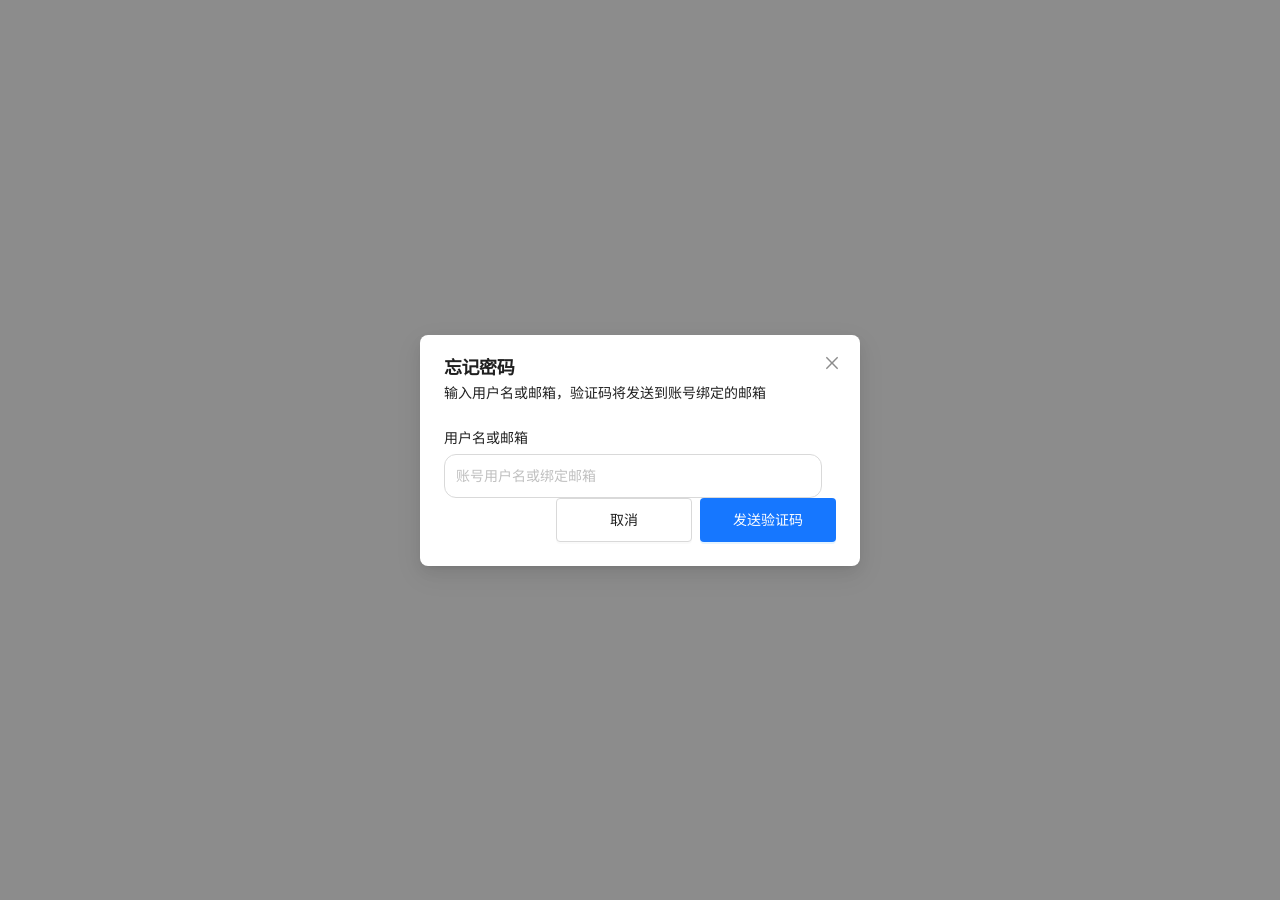
ForgotPasswordDialog › 第二步：验证码非 6 位数字时提示错误
Type "alice" into the field labelled "用户名或邮箱".
click(633, 476); type("alice")  # box top-left (444, 454), bottom-right (822, 498)
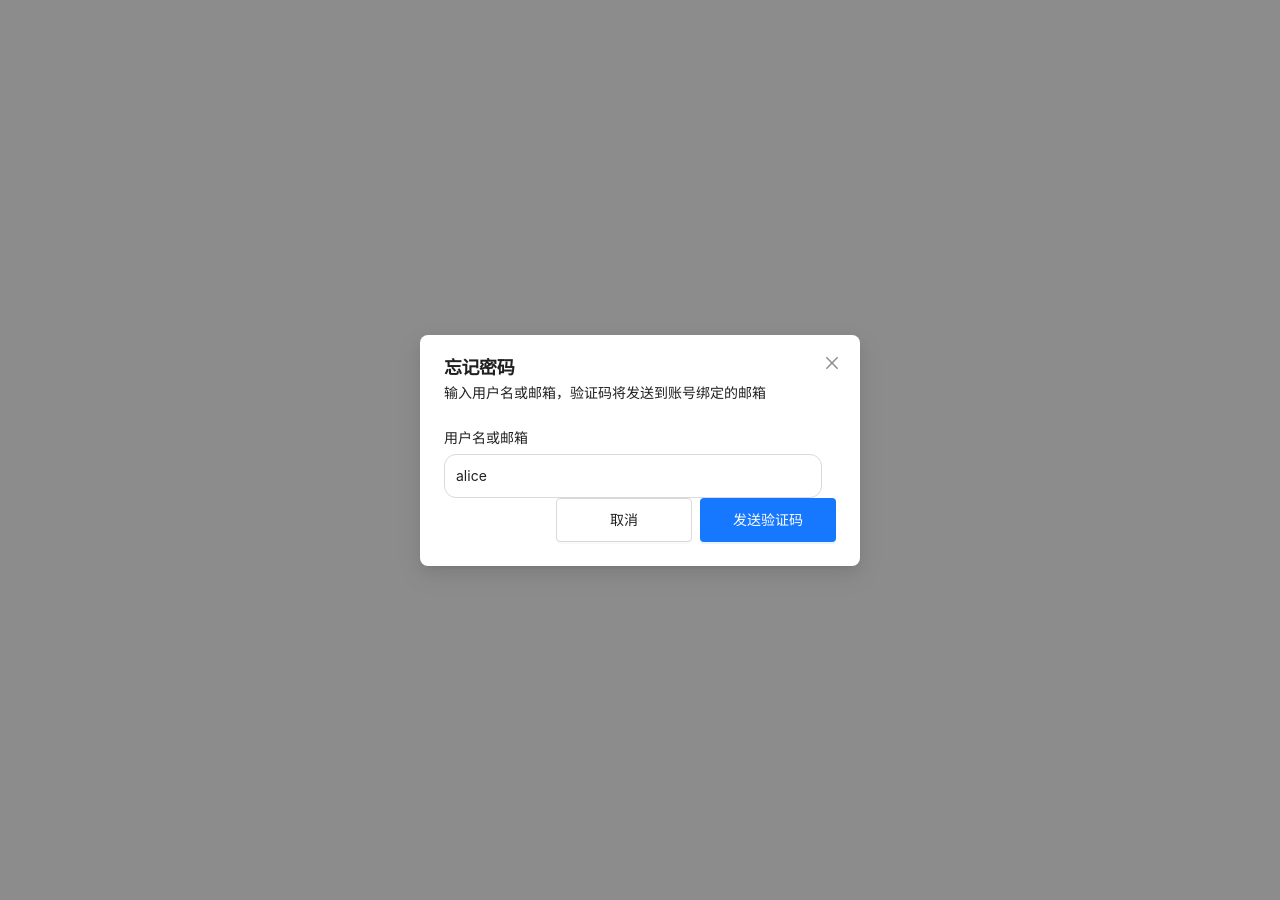
Click the button "发送验证码".
click(768, 520)  # box top-left (700, 498), bottom-right (836, 542)
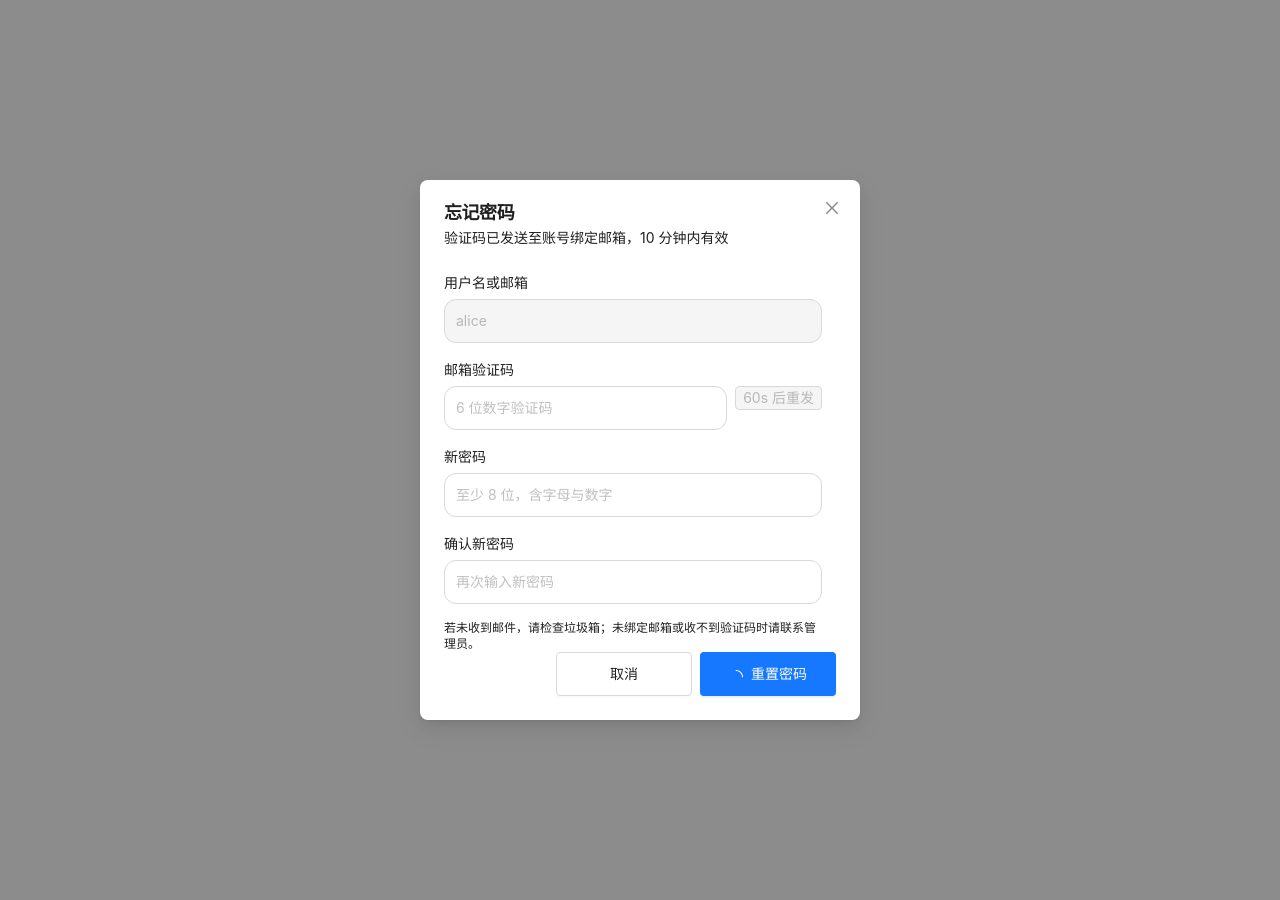
Result: the field labelled "邮箱验证码" is shown
Type "12ab" into the field labelled "邮箱验证码".
click(586, 408); type("12ab")  # box top-left (444, 386), bottom-right (727, 430)
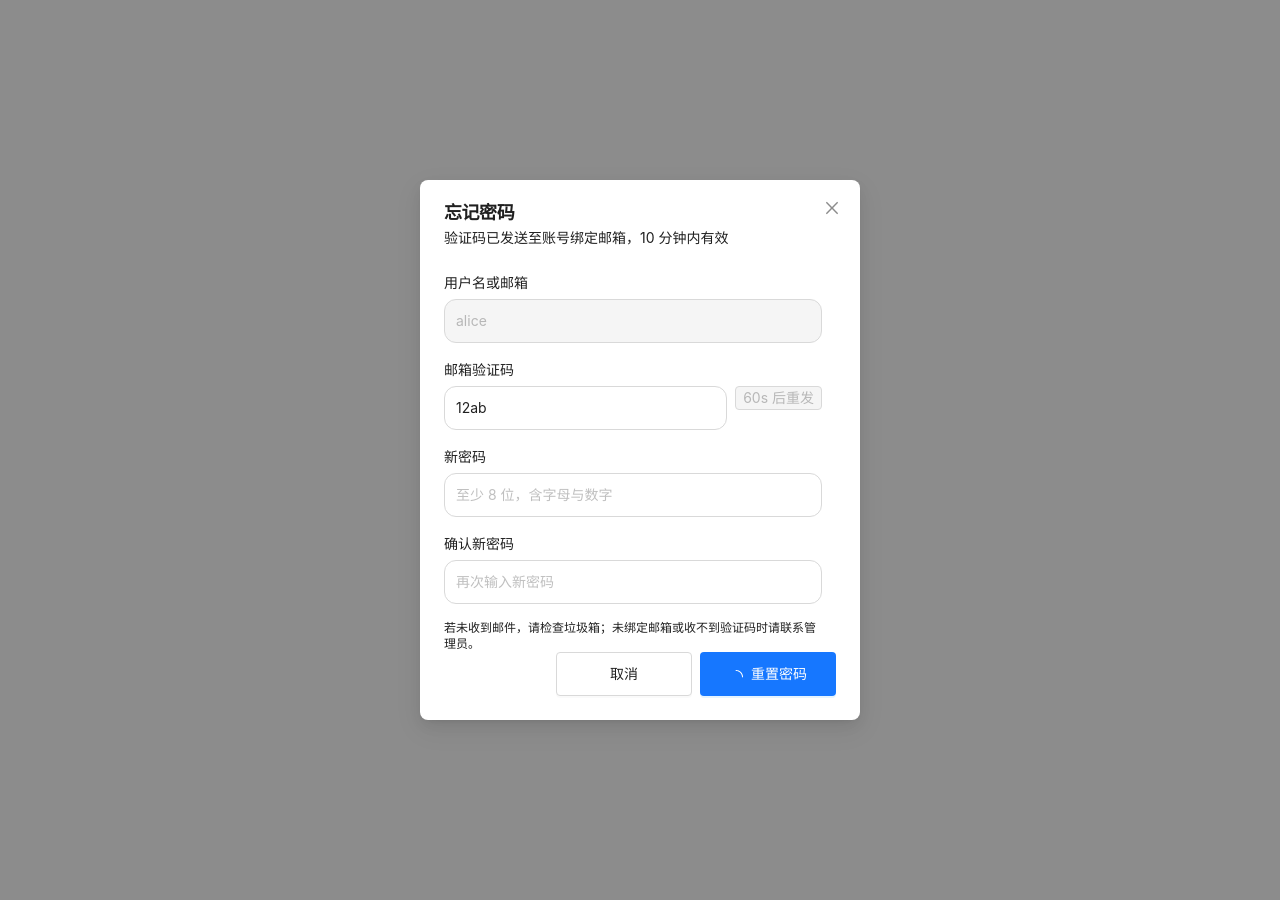
Type "NewPass123" into the password field labelled "新密码".
click(633, 495); type("NewPass123")  # box top-left (444, 473), bottom-right (822, 517)
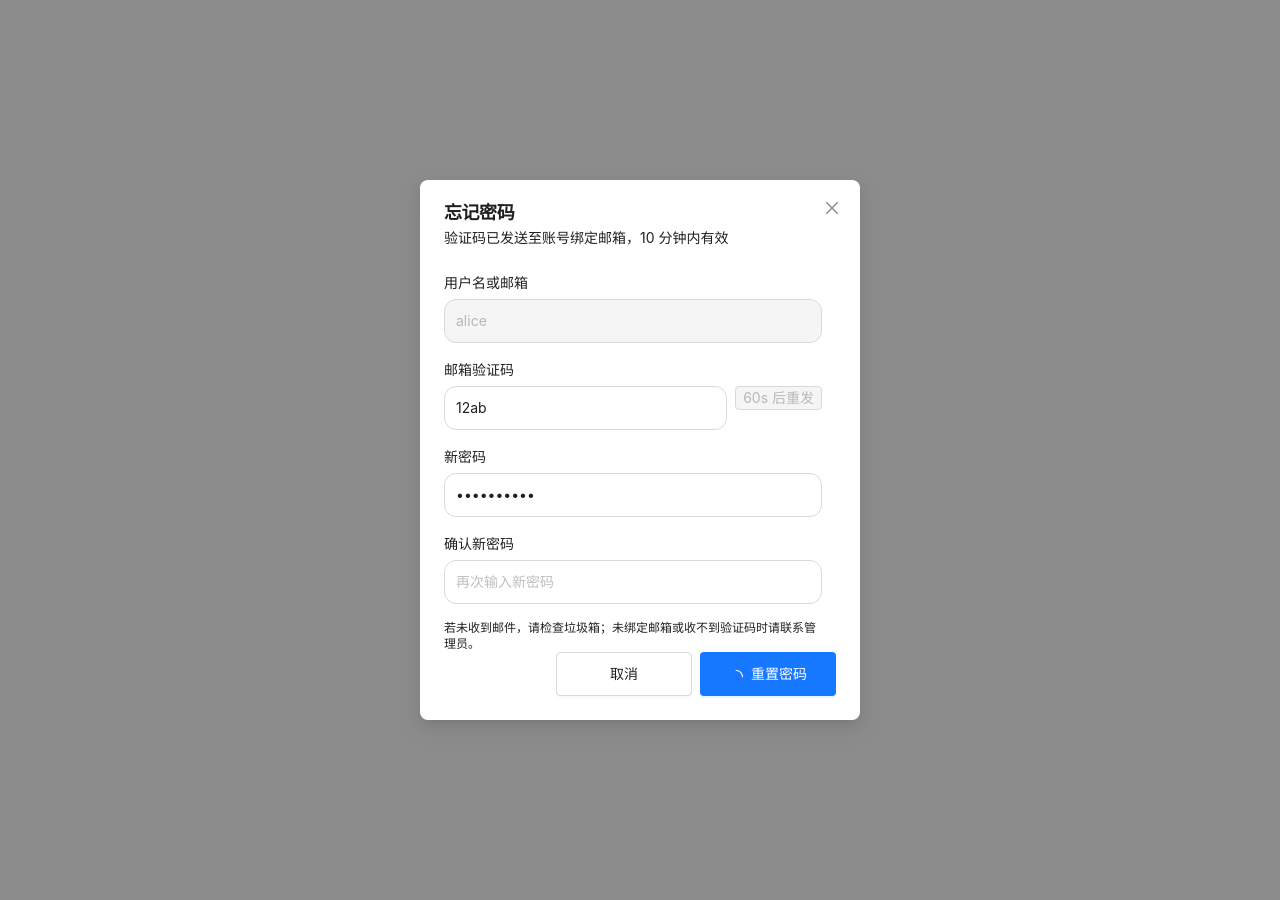
Type "NewPass123" into the password field labelled "确认新密码".
click(633, 582); type("NewPass123")  # box top-left (444, 560), bottom-right (822, 604)
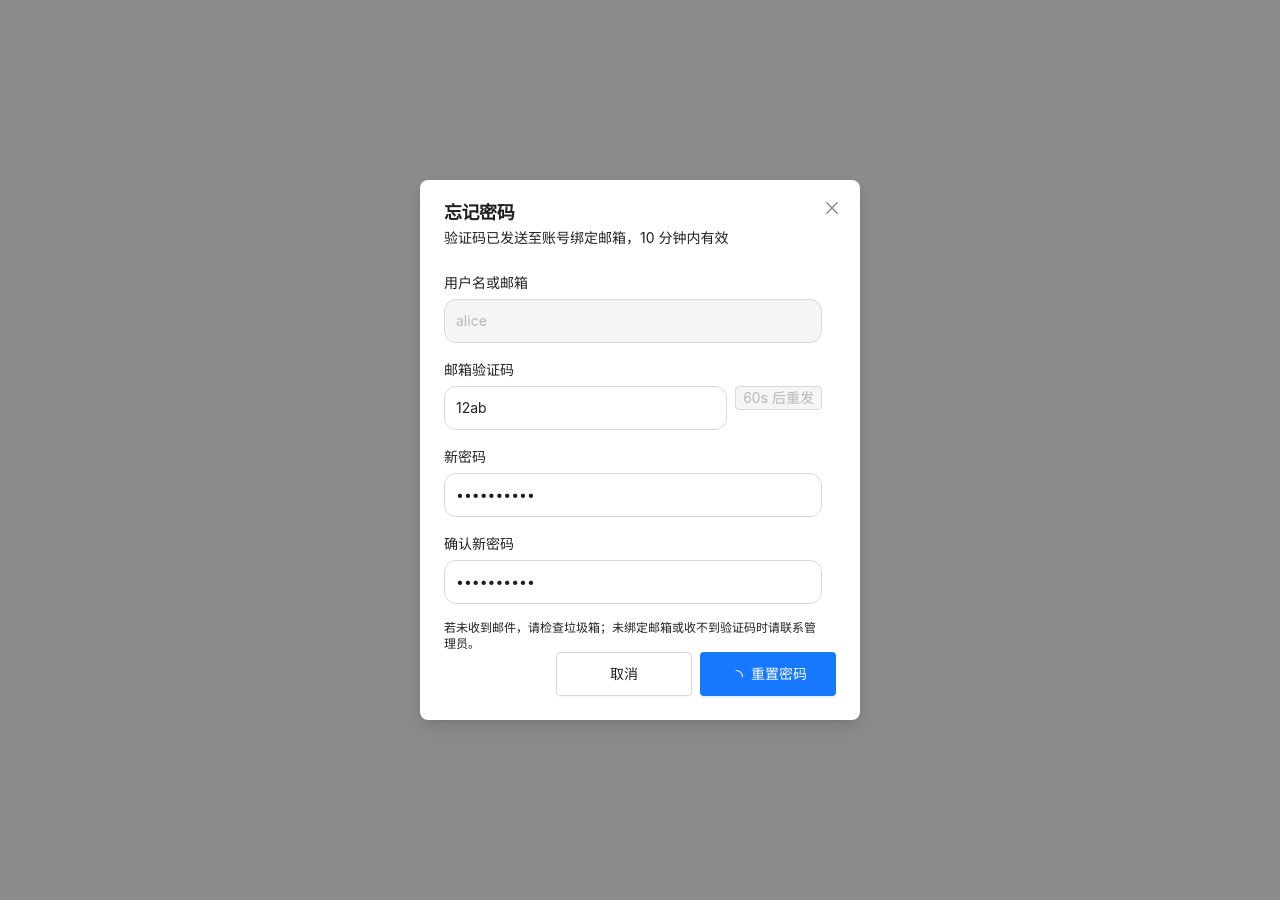
Click the button "重置密码".
click(768, 674)  # box top-left (700, 652), bottom-right (836, 696)
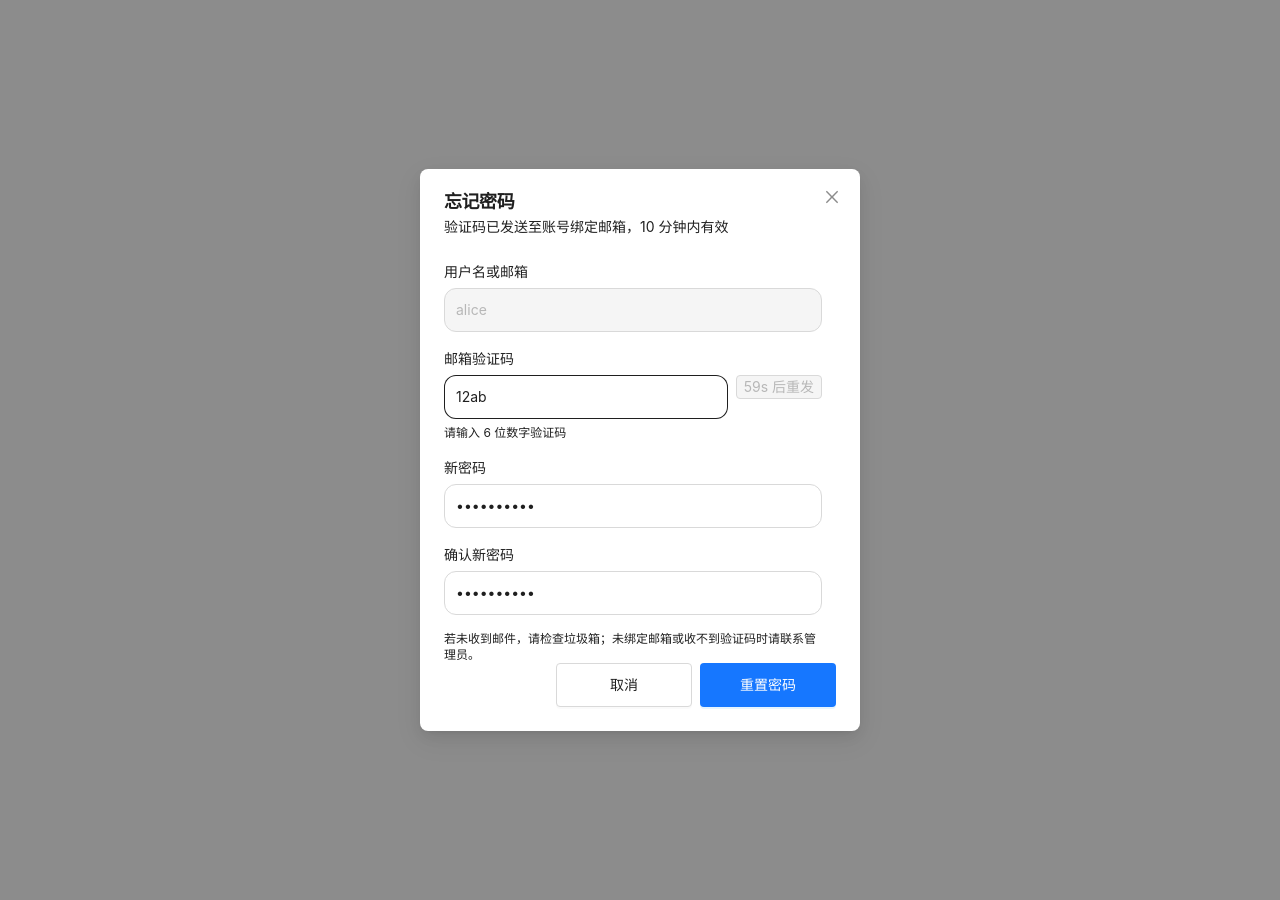
Result: the text "请输入 6 位数字验证码" is shown at top-left (444, 425), bottom-right (566, 440)
